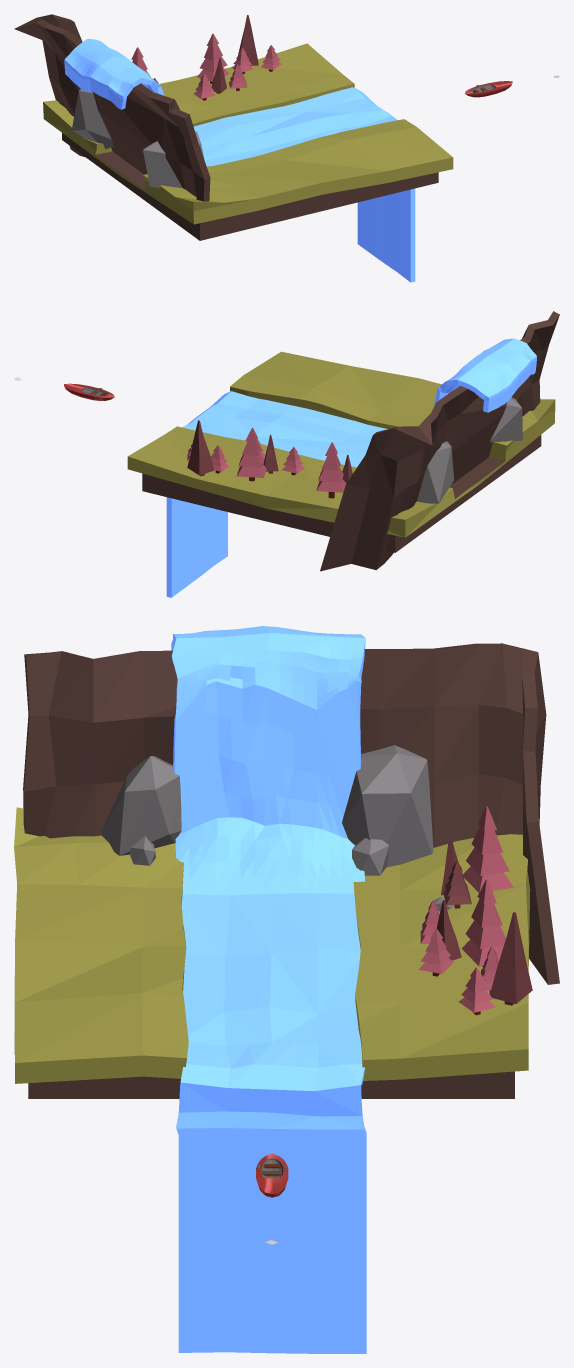
File: waterfallV2.1.glb
3 renders of one model, top to bottom at view 1: azimuth 30°, elevation 25°; view 2: azimuth 150°, elevation 25°; view 3: azimuth 270°, elevation 25°, orthographic. The views are drawn at different scales.
Parts seen in each view (by area): view 1: Flor, River, Cliff, Roc 2.001, Roc 2, Arbre 2.008, Arbre 1.002, Boat; view 2: Flor, River, Cliff, Roc 2.001, Roc 2, Arbre 2.007, Arbre 2.008, Arbre 1.002, Boat, Arbre 2; view 3: River, Flor, Cliff, Roc 2.001, Roc 2, Arbre 2.007, Arbre 1.002, Arbre 2.008, Roc, Boat, Arbre 2.006, Arbre 2.002.
Part boxes in pixels (left/top/right/bottom): Flor: left=43, top=43, right=453, bottom=240; River: left=64, top=38, right=415, bottom=282; Cliff: left=14, top=14, right=210, bottom=201; Roc 2.001: left=71, top=88, right=113, bottom=149; Roc 2: left=143, top=131, right=204, bottom=188; Arbre 2.008: left=197, top=33, right=229, bottom=83; Arbre 1.002: left=238, top=15, right=258, bottom=66; Boat: left=464, top=81, right=512, bottom=97; Flor: left=127, top=351, right=555, bottom=552; River: left=166, top=338, right=536, bottom=597; Cliff: left=320, top=311, right=559, bottom=571; Roc 2.001: left=417, top=441, right=453, bottom=503; Roc 2: left=490, top=397, right=522, bottom=442; Arbre 2.007: left=316, top=442, right=346, bottom=498; Arbre 2.008: left=237, top=427, right=266, bottom=481; Arbre 1.002: left=187, top=420, right=214, bottom=476; Boat: left=64, top=383, right=114, bottom=400; Arbre 2: left=282, top=447, right=304, bottom=475; River: left=171, top=626, right=366, bottom=1353; Flor: left=14, top=807, right=530, bottom=1098; Cliff: left=23, top=643, right=559, bottom=984; Roc 2.001: left=342, top=745, right=433, bottom=867; Roc 2: left=101, top=756, right=181, bottom=855; Arbre 2.007: left=463, top=806, right=513, bottom=892; Arbre 1.002: left=490, top=912, right=532, bottom=1005; Arbre 2.008: left=462, top=879, right=506, bottom=967; Roc: left=352, top=838, right=389, bottom=875; Boat: left=256, top=1153, right=288, bottom=1197; Arbre 2.006: left=458, top=967, right=495, bottom=1015; Arbre 2.002: left=418, top=928, right=453, bottom=976.
Size of the model in its own units: 15.45 by 8.55 by 8.75.
Materials: 12 (1 with a texture image).
